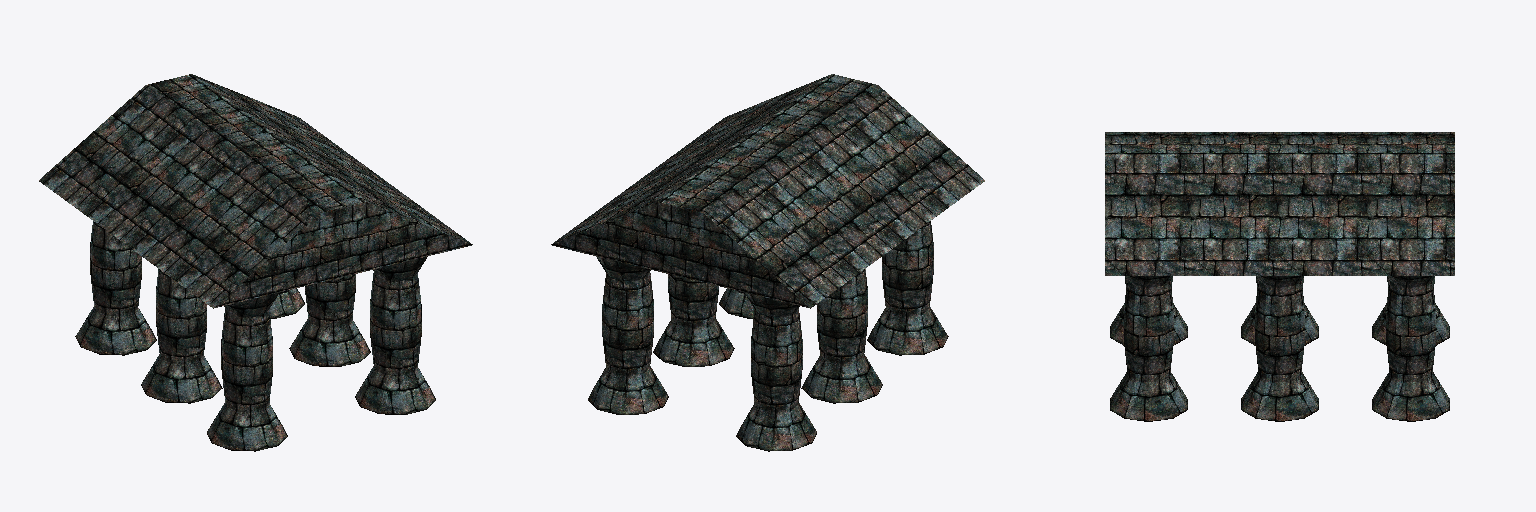
3 renders of one model, left to right at view 1: azimuth 30°, elevation 25°; view 2: azimuth 150°, elevation 25°; view 3: azimuth 270°, elevation 25°, orthographic.
Parts seen in each view (by area): view 1: toit, pilier1, pilier2, pilier5, pilier3, pilier4, pilier6; view 2: toit, pilier5, pilier6, pilier1, pilier3, pilier4, pilier2; view 3: toit, pilier2, pilier4, pilier6, pilier1, pilier5, pilier3.
Part boxes in pixels (x1,y1,x2,y2): toit: (39, 74, 472, 308); pilier1: (207, 293, 287, 451); pilier2: (355, 256, 435, 414); pilier5: (75, 221, 156, 355); pilier3: (141, 269, 222, 403); pilier4: (289, 274, 370, 366); pilier6: (269, 288, 304, 318); toit: (551, 74, 984, 308); pilier5: (736, 293, 816, 451); pilier6: (588, 256, 668, 414); pilier1: (867, 221, 948, 355); pilier3: (801, 269, 882, 403); pilier4: (653, 274, 734, 366); pilier2: (719, 288, 754, 318); toit: (1105, 132, 1454, 275); pilier2: (1110, 276, 1187, 421); pilier4: (1241, 276, 1318, 421); pilier6: (1372, 276, 1449, 421); pilier1: (1110, 277, 1187, 345); pilier5: (1372, 277, 1449, 345); pilier3: (1241, 277, 1318, 345).
Size of the model in its own units: 7.43 by 6.13 by 8.64.
1 materials, 1 textured.